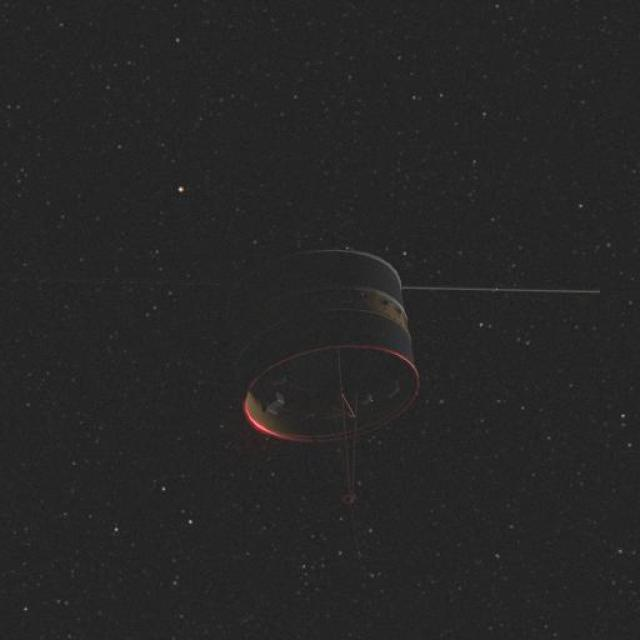double_start: (189, 234, 452, 464)
